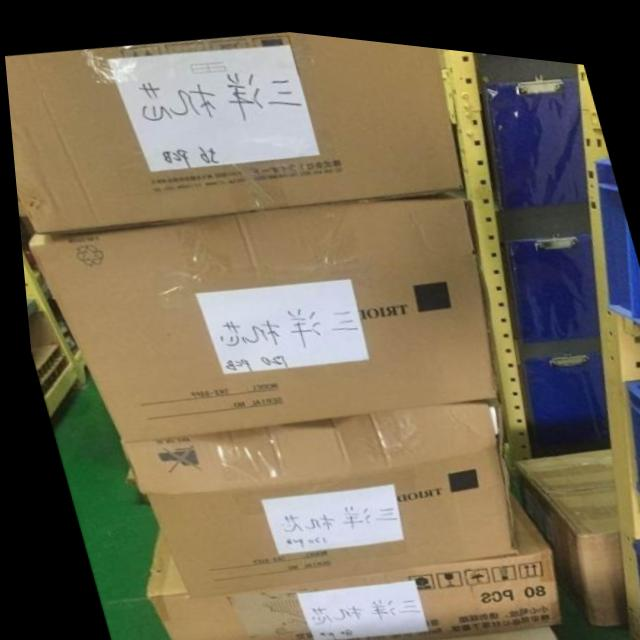box: (25, 182, 493, 441), (4, 25, 460, 231), (114, 393, 509, 593), (133, 481, 552, 640), (510, 434, 616, 614)
